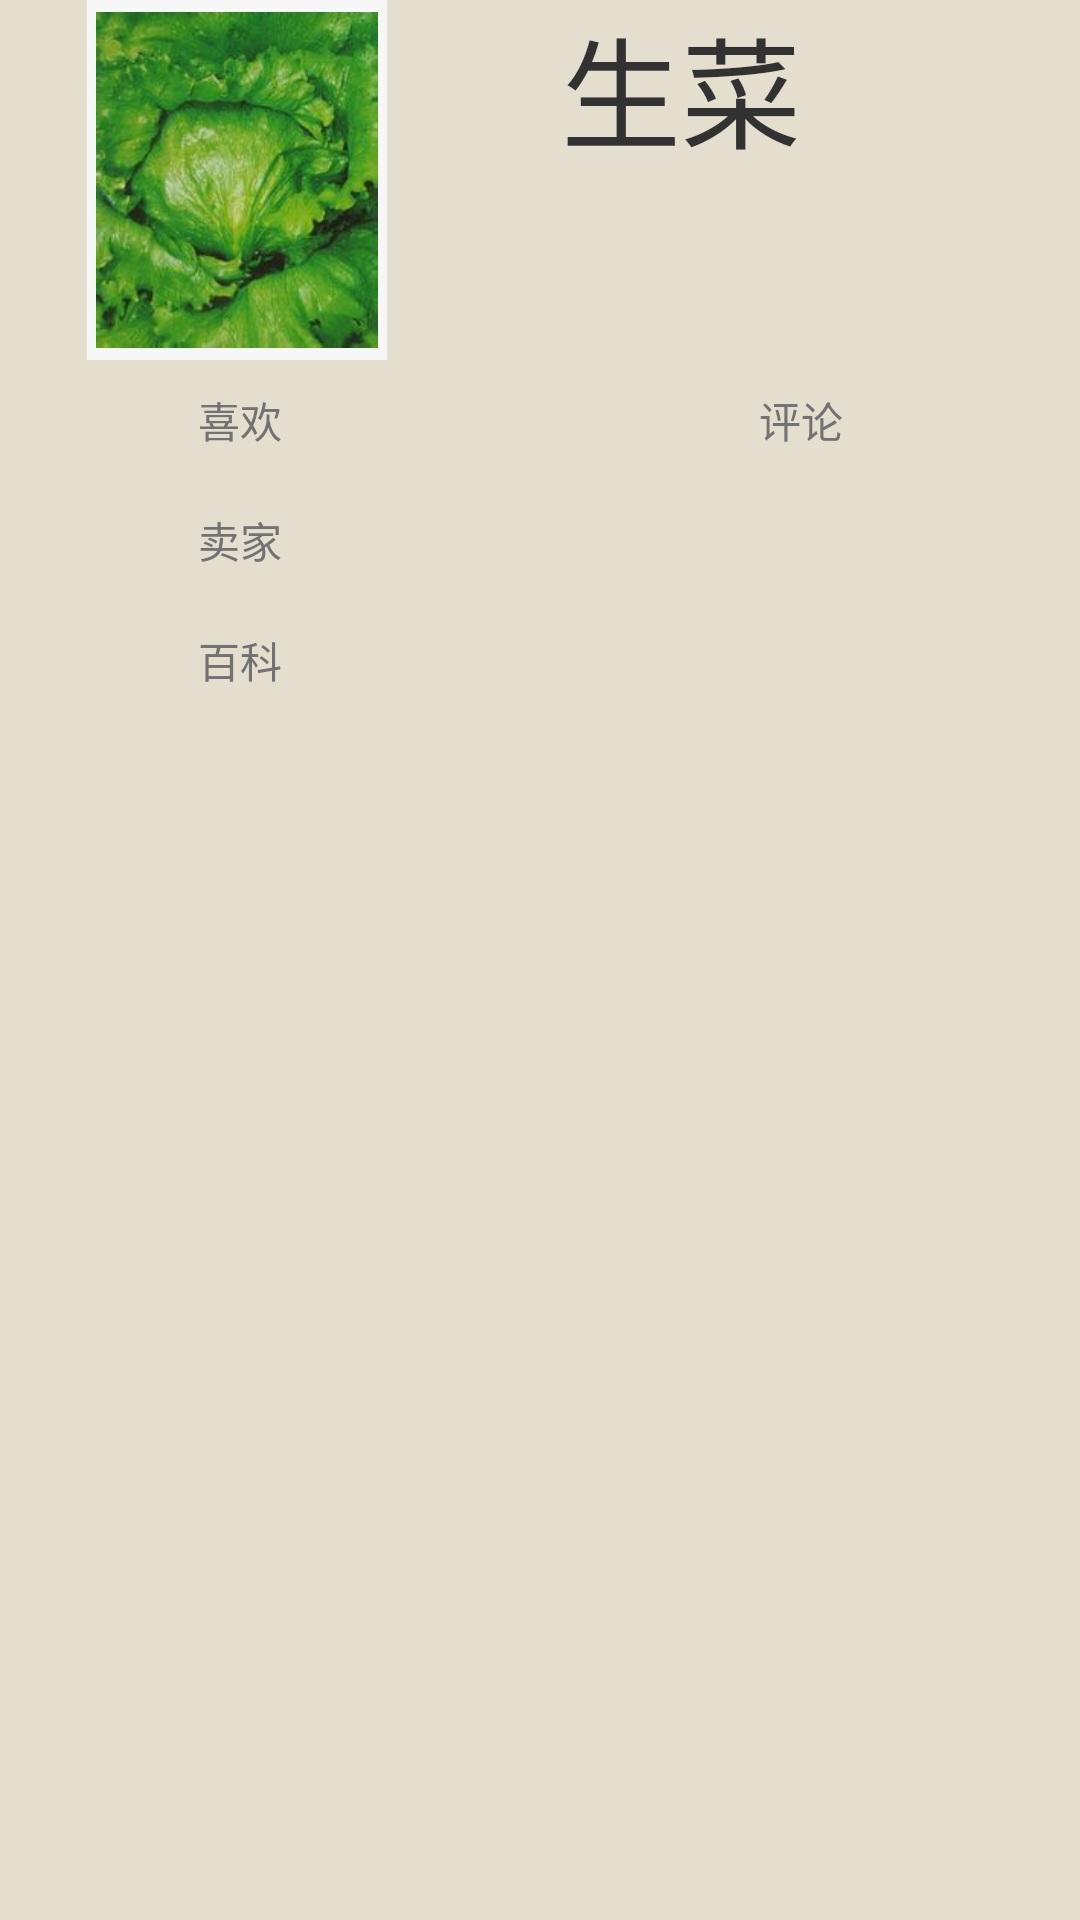

Named icons in this screenshot (1080×1920) and their centers, [x,y]:
cai: [237,180]
